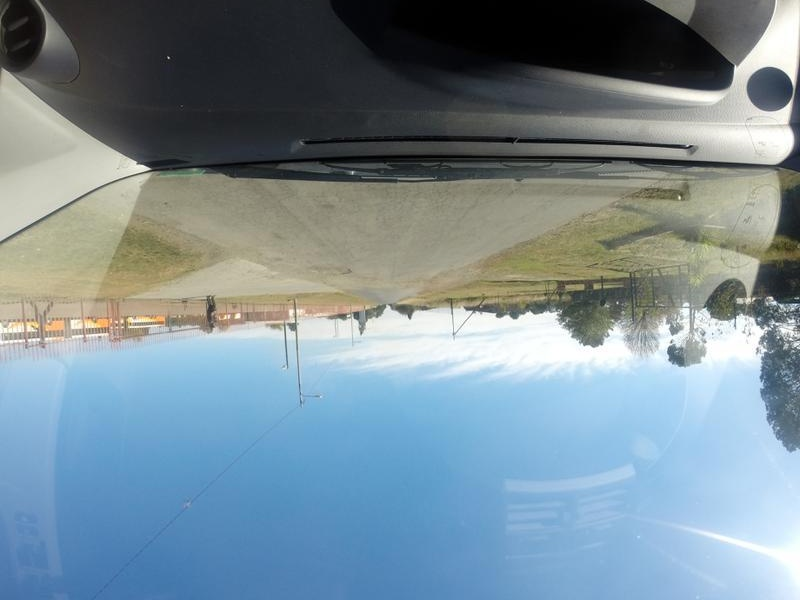pothole: (298, 258, 358, 289)
